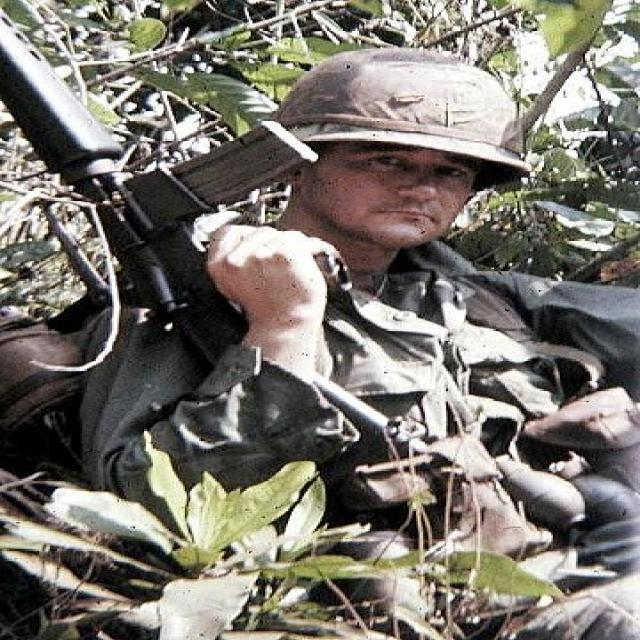m16: (0, 0, 361, 419)
